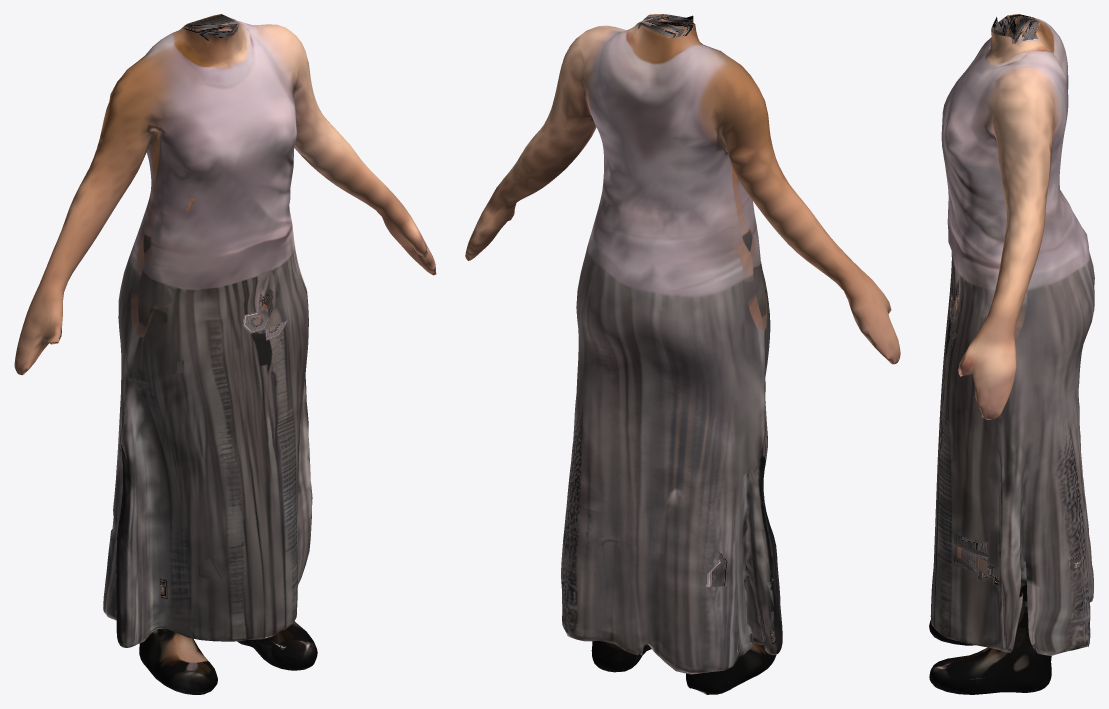
3 views of the same model, side by side, from view 1: azimuth 30°, elevation 25°; view 2: azimuth 150°, elevation 25°; view 3: azimuth 270°, elevation 25° (orthographic). The views are drawn at different scales.
Visible parts, largest first — view 1: base; view 2: base; view 3: base.
Boxes of the visible parts, <box> form: base: <box>14,14,436,694</box>; base: <box>465,14,900,694</box>; base: <box>929,14,1094,694</box>.
Bounding box in the file's own units: 1.14 × 1.65 × 0.3872.
Materials: 1 (1 with a texture image).
